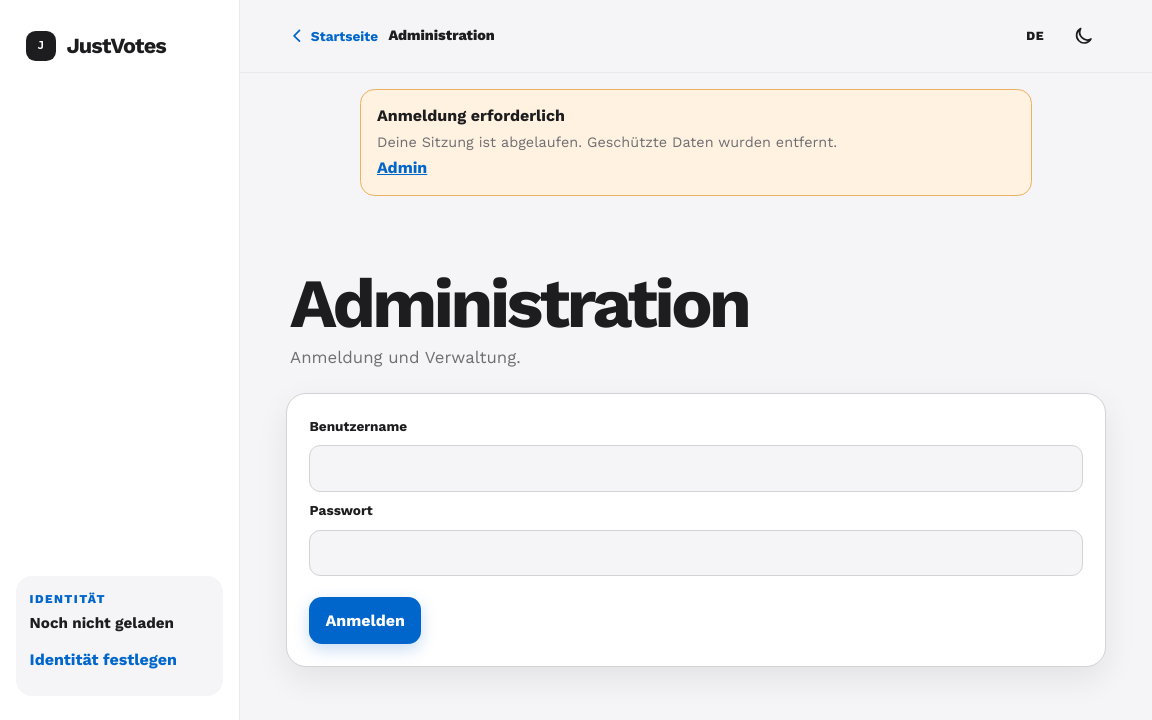
app shell › returns to the in-memory target route after login
The width and height of the screenshot is (1152, 720).
Type "admin" into the field labelled "Benutzername" at (696, 468), box [310,445,1083,492]
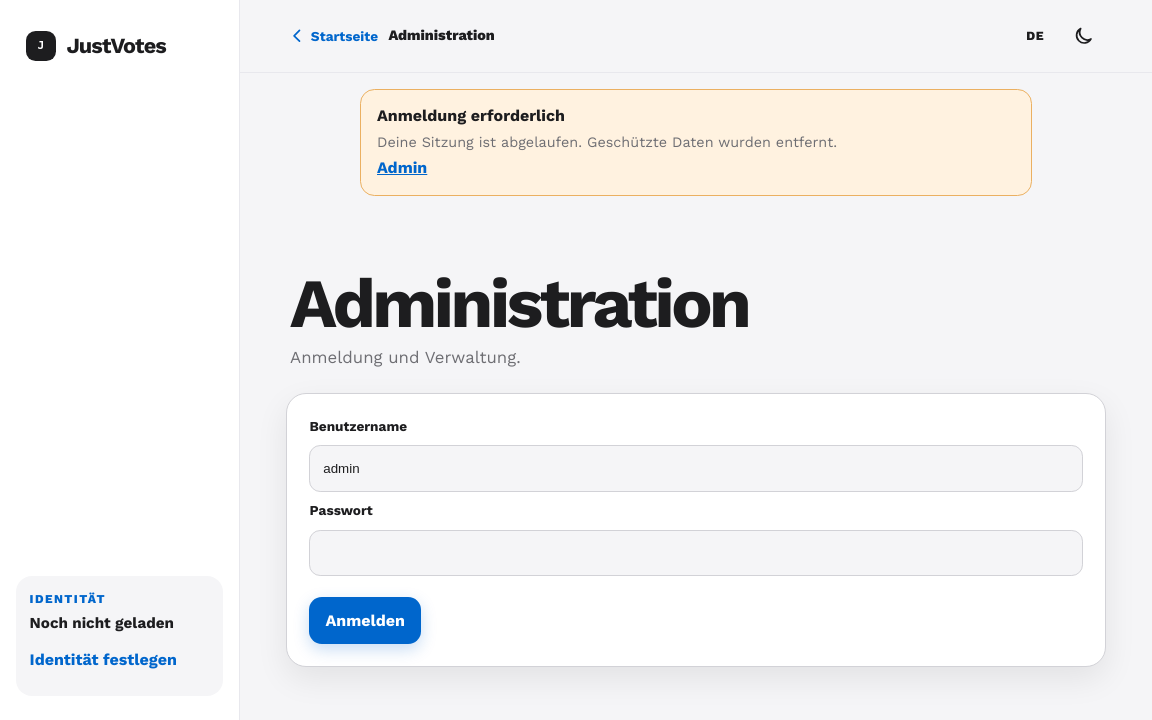
Type "secret" into the password field labelled "Passwort" at (696, 553), box [310,530,1083,576]
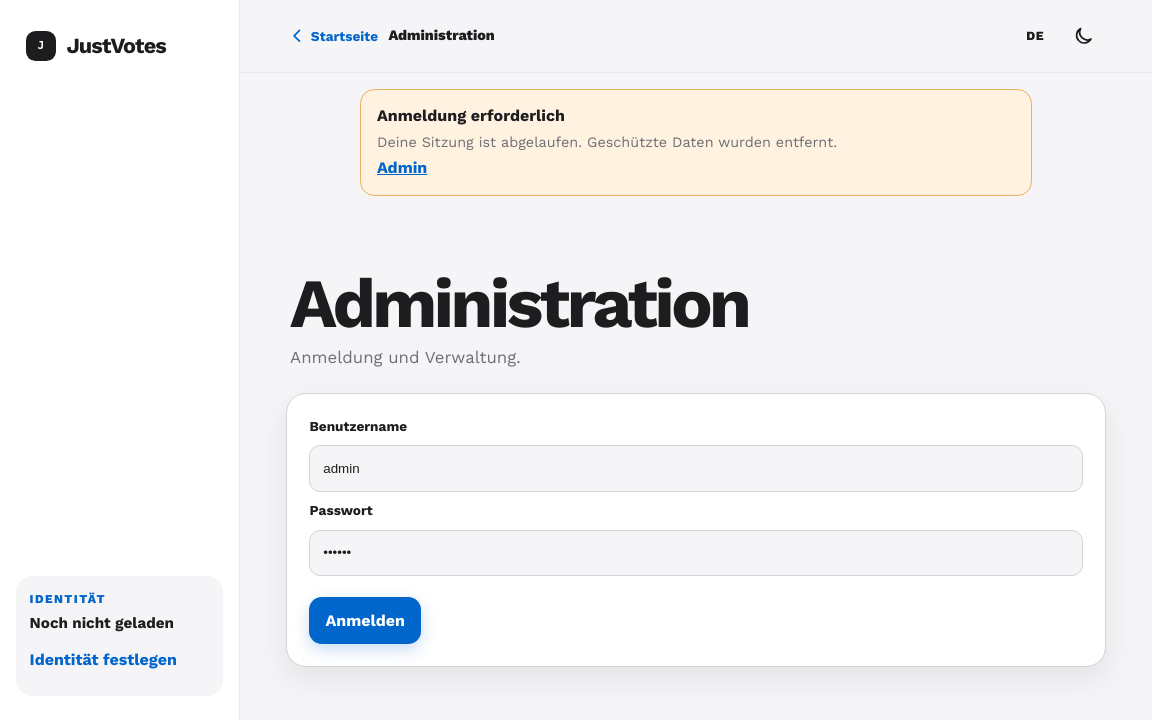
Click the button "Anmelden" at (365, 621), box [310,598,421,644]
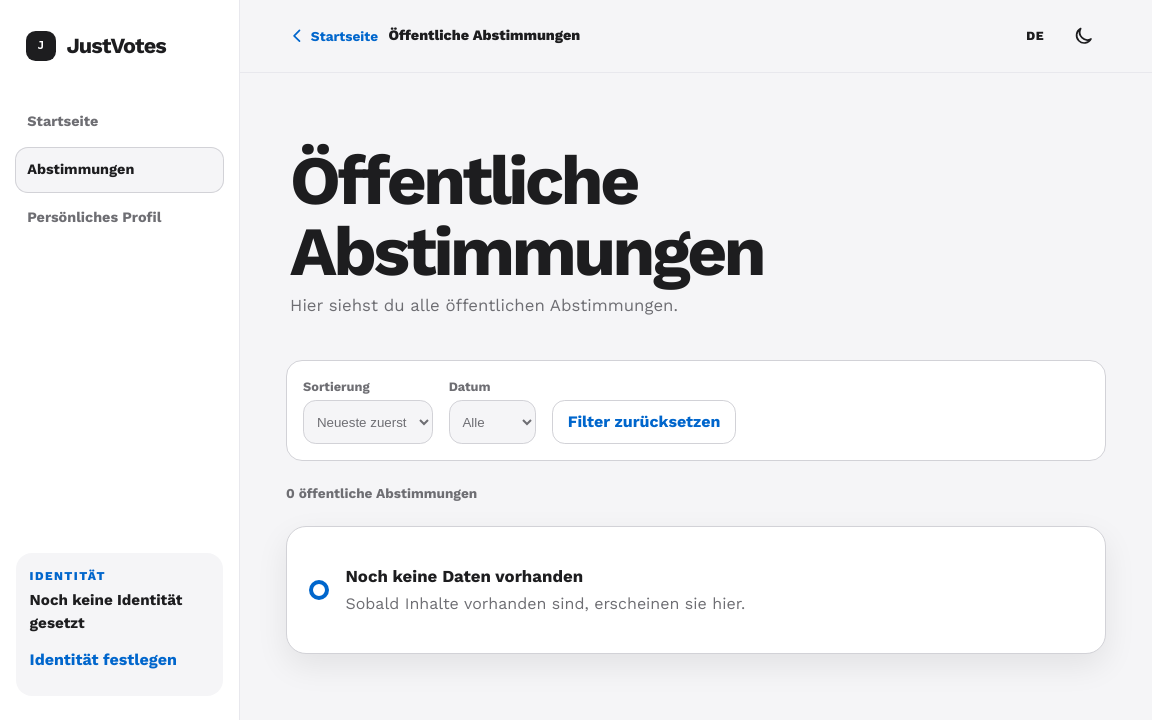
Now the heading "Öffentliche Abstimmungen" is shown, box [290,140,763,292]
